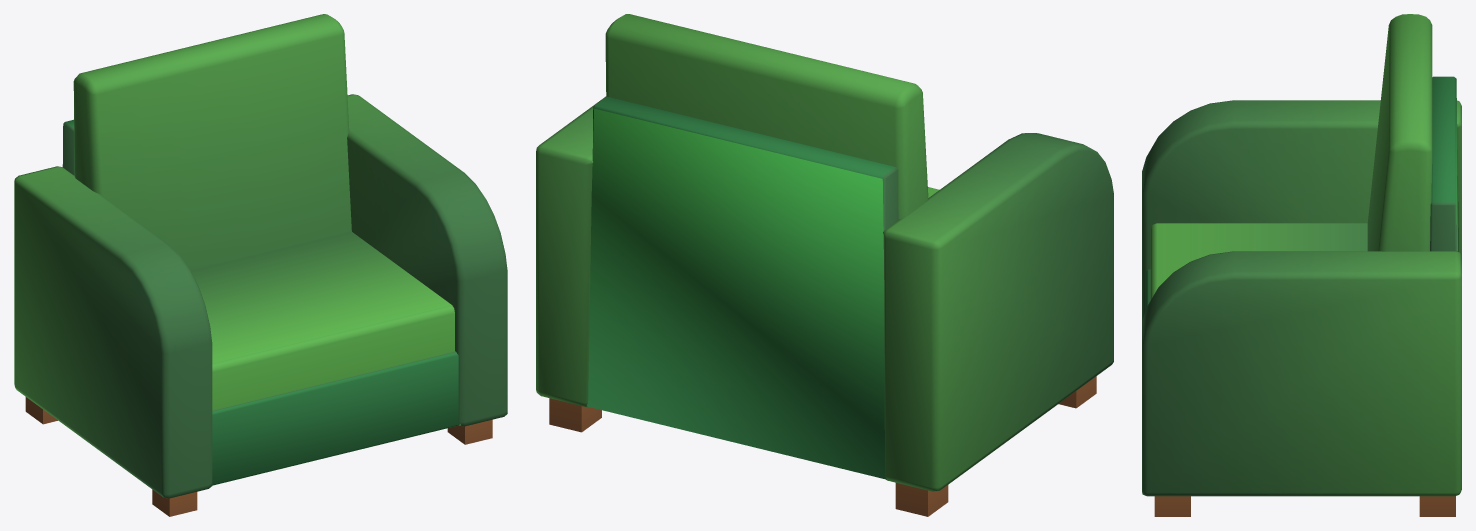
File: Couch_chair.FBX
3 renders of one model, left to right at view 1: azimuth 30°, elevation 25°; view 2: azimuth 150°, elevation 25°; view 3: azimuth 270°, elevation 25°, orthographic. The views are drawn at different scales.
Parts seen in each view (by area): view 1: Stoel; view 2: Stoel; view 3: Stoel.
Part boxes in pixels (x1=…): Stoel: x1=14, y1=14, x2=507, y2=516; Stoel: x1=536, y1=14, x2=1113, y2=516; Stoel: x1=1142, y1=14, x2=1461, y2=516.
Size of the model in its own units: 101 by 95.82 by 77.61.
Materials: 1 (1 with a texture image).
